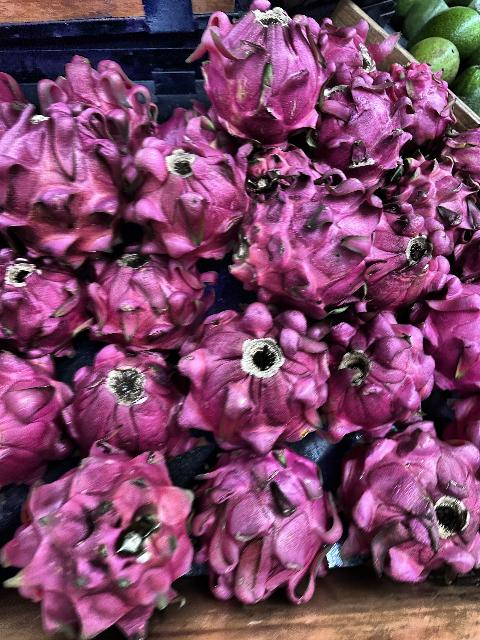buah-naga-matang: (19, 463, 195, 632), (190, 446, 344, 606), (336, 423, 480, 579), (187, 310, 339, 454), (245, 160, 383, 308), (1, 110, 132, 258), (190, 4, 328, 144), (128, 136, 258, 268), (63, 343, 195, 452), (327, 310, 442, 432), (90, 246, 208, 346), (0, 355, 74, 489), (308, 81, 406, 181), (0, 256, 90, 352), (392, 64, 451, 148)
